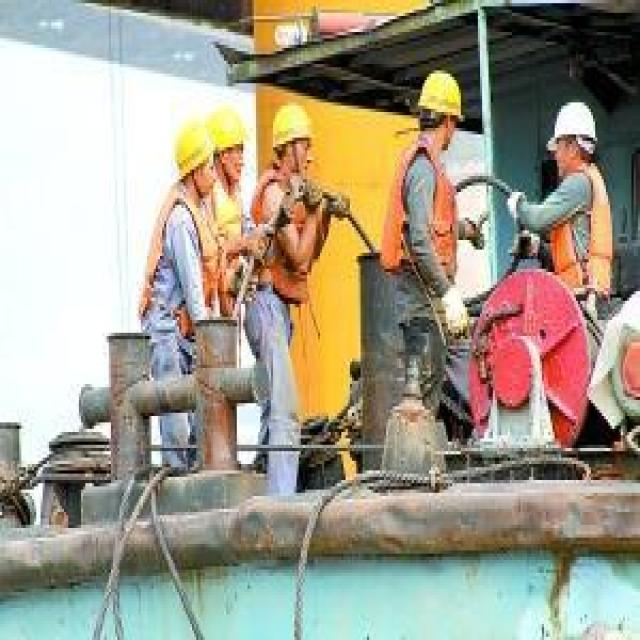hat: (414, 61, 468, 164), (171, 109, 224, 208), (205, 93, 250, 205), (548, 93, 602, 182), (269, 103, 316, 186)
